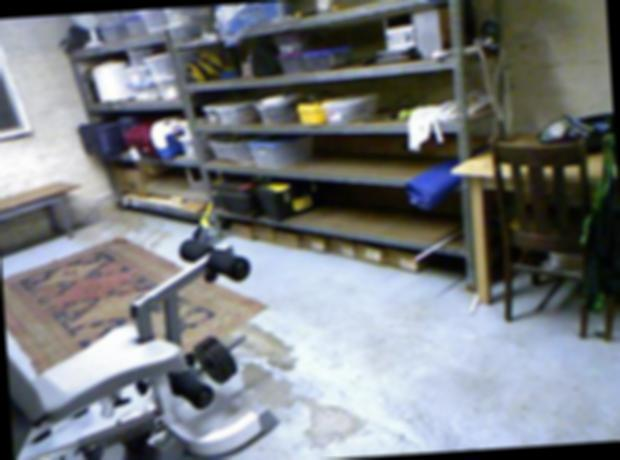Otro Obstaculo: (3, 223, 282, 460)
